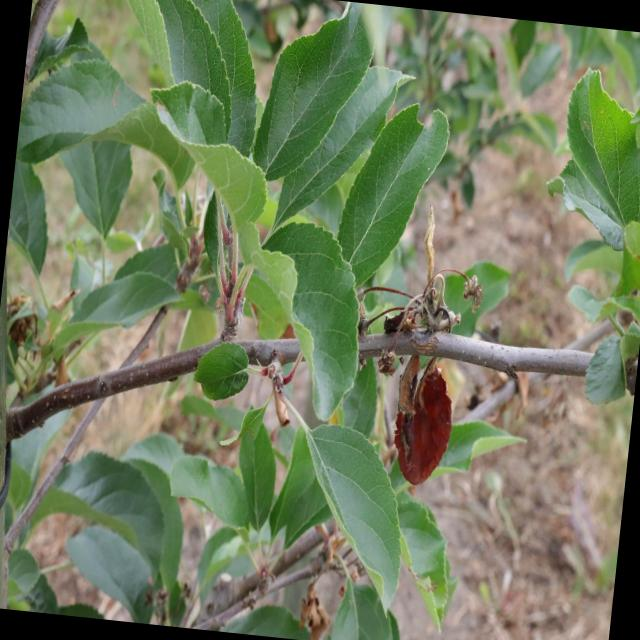-FireBlight-: (386, 321, 462, 494)
